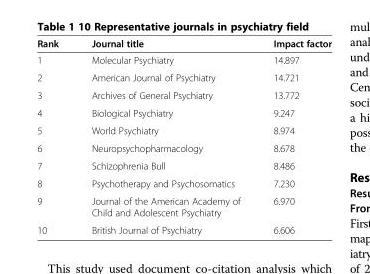table: (36, 37, 331, 235)
table column: (74, 37, 256, 235), (256, 37, 331, 235), (36, 37, 74, 235)
table column header: (36, 37, 331, 51)
table row: (36, 191, 331, 220), (36, 68, 331, 86), (36, 103, 331, 121), (36, 121, 331, 139), (36, 156, 331, 174), (36, 51, 331, 68), (36, 86, 331, 103), (36, 139, 331, 156), (36, 174, 331, 191), (36, 220, 331, 235), (36, 37, 331, 51)
